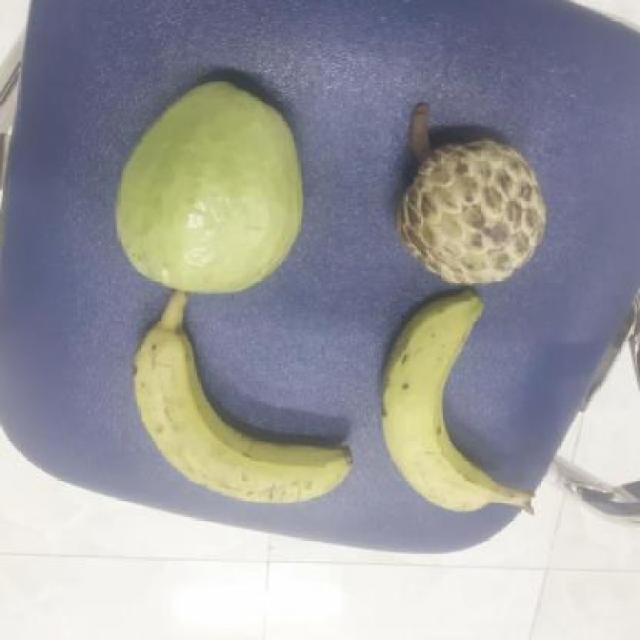banana: (128, 306, 362, 511), (374, 291, 521, 520)
guava: (106, 76, 309, 301)
sugar apple: (393, 136, 552, 290)
